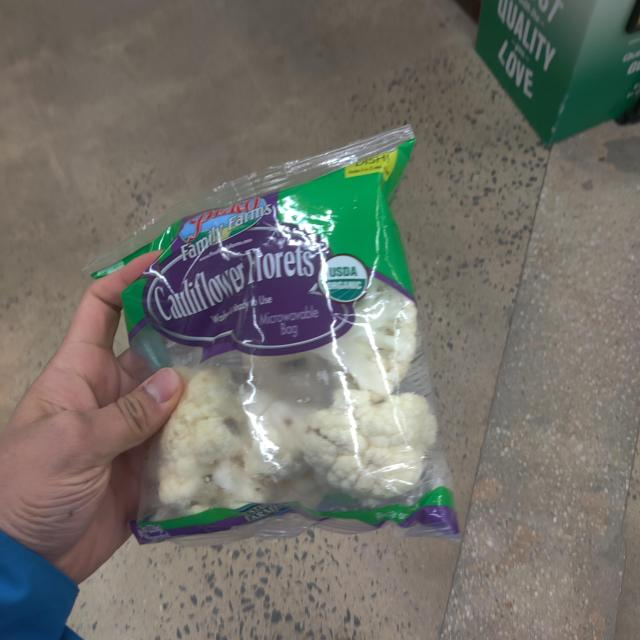Juice: (88, 119, 492, 549)
